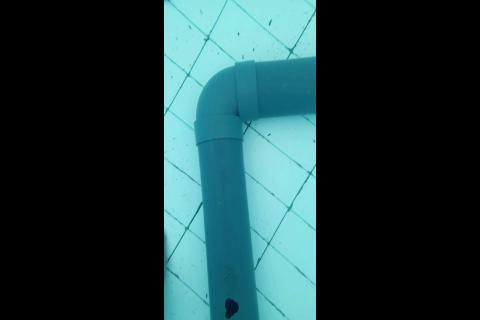kebocoran: (223, 295, 240, 320)
